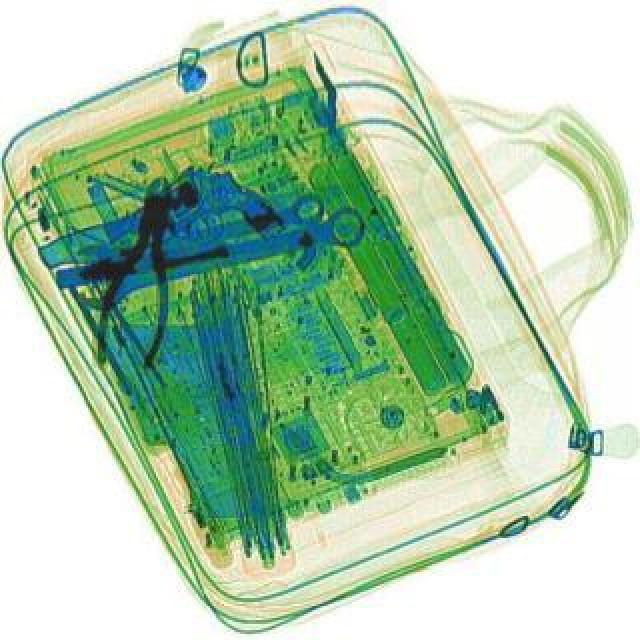gun: (94, 148, 290, 300)
scissors: (68, 200, 372, 312), (70, 182, 330, 284)
wrench: (86, 170, 192, 372)
